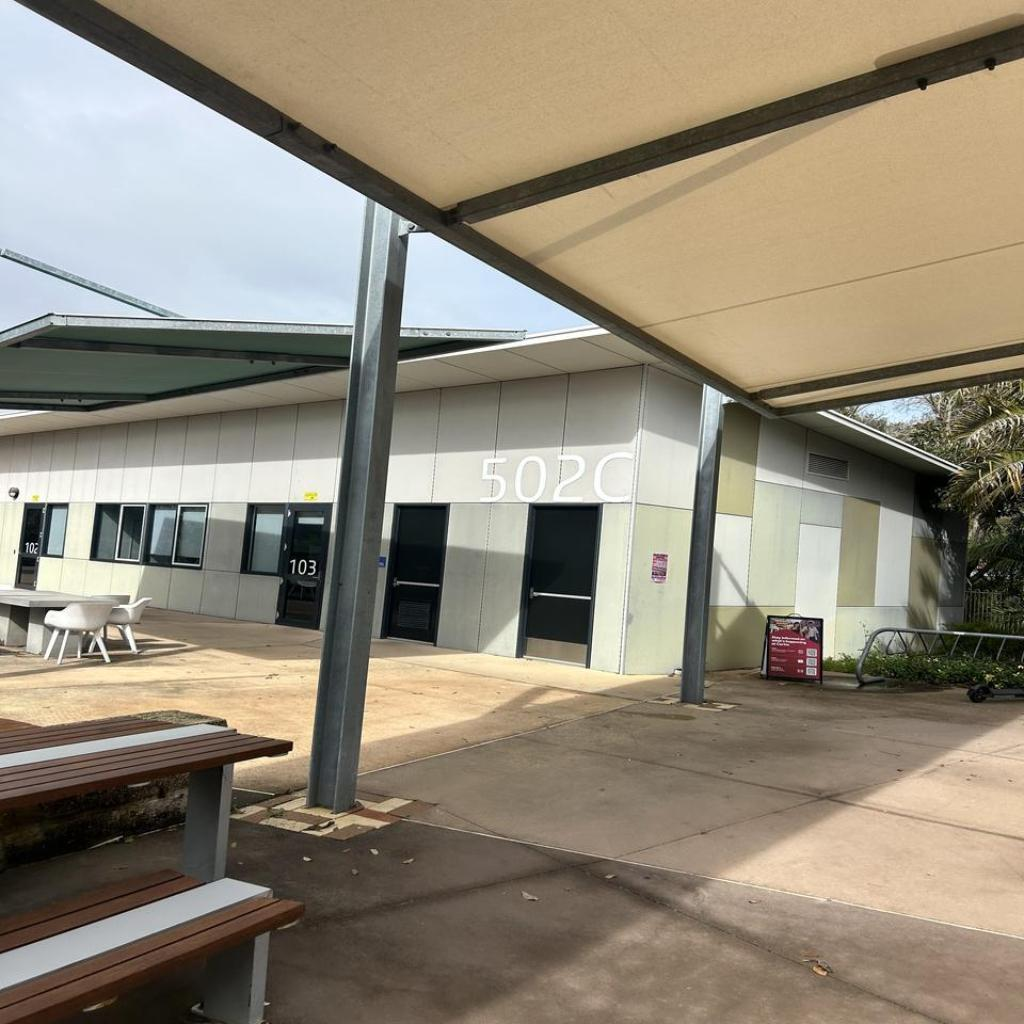BuildingCodes: (477, 450, 635, 506)
